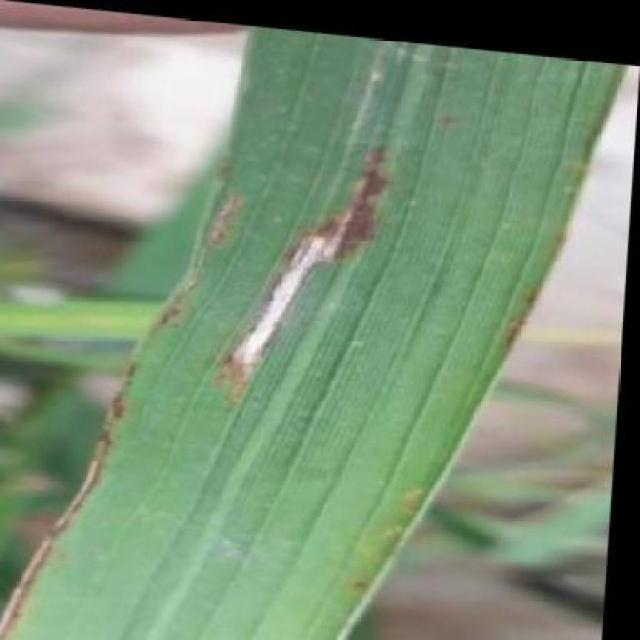Bacterial_Leaf_Blight: (204, 168, 398, 423)
